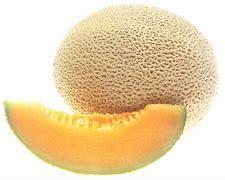Melon Ripe: (53, 4, 220, 133), (4, 100, 185, 177)
